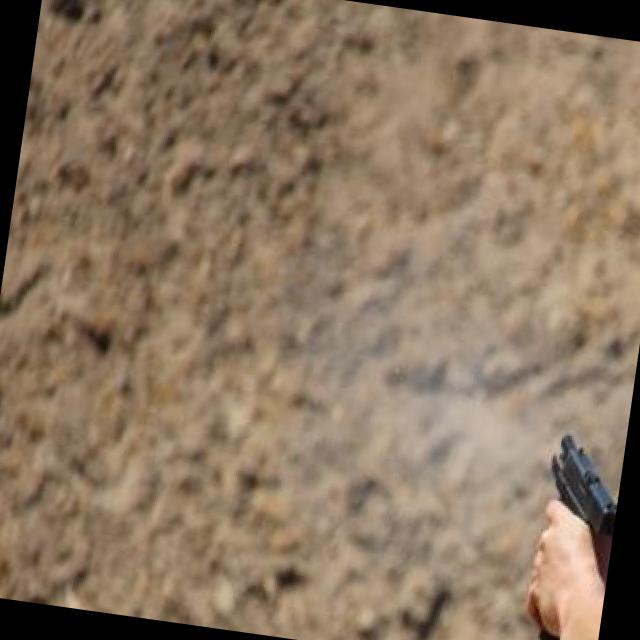Guns: (485, 397, 630, 640)
